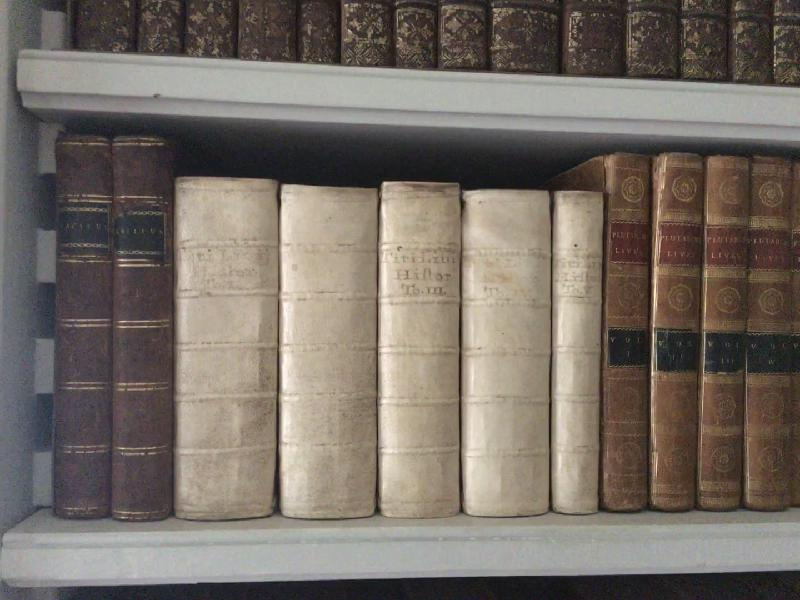Kk4-1_2: (47, 126, 180, 525)
Kk4-3_7: (168, 168, 614, 528)
Kk4-8_13: (598, 144, 800, 524)
